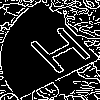H: (25, 25, 100, 84)
